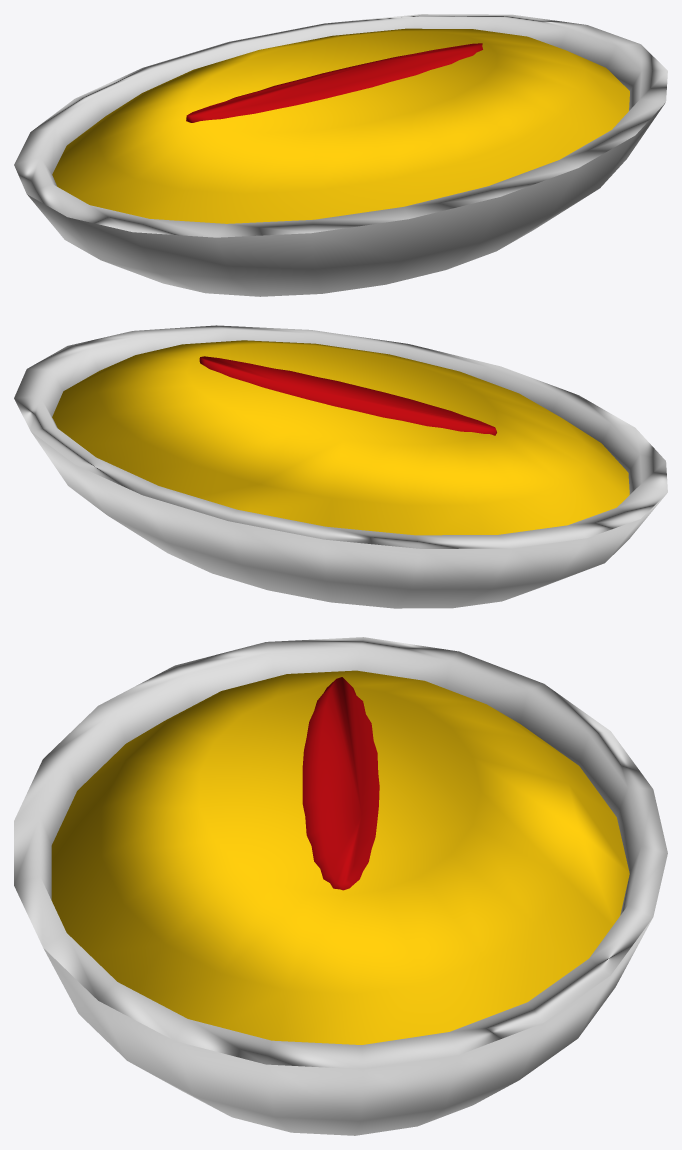
The model's file is Omurice.fbx.
3 renders of one model, top to bottom at view 1: azimuth 30°, elevation 25°; view 2: azimuth 150°, elevation 25°; view 3: azimuth 270°, elevation 25°, orthographic. The views are drawn at different scales.
Visible parts, largest first — view 1: 球.001, 球; view 2: 球.001, 球; view 3: 球.001, 球.
Boxes of the visible parts, <box> form: 球.001: <box>52,28,629,223</box>; 球: <box>14,14,667,296</box>; 球.001: <box>52,340,629,535</box>; 球: <box>14,325,667,608</box>; 球.001: <box>51,670,629,1044</box>; 球: <box>14,637,667,1135</box>.
Bounding box in the file's own units: 196 × 56.15 × 126.
